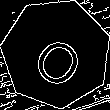O_NE: (24, 20, 88, 87)
